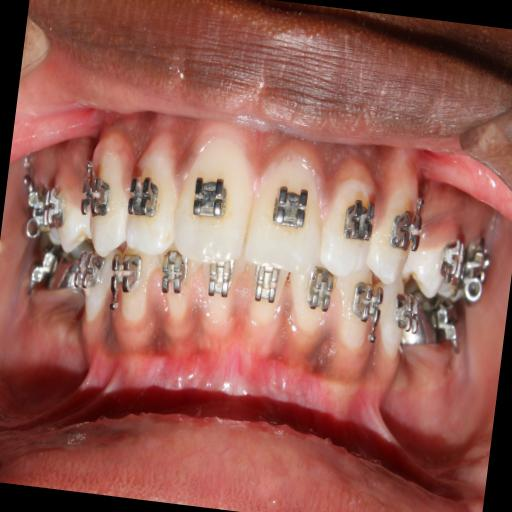correct_brace: (264, 172, 312, 250), (386, 190, 430, 272), (336, 184, 380, 260), (186, 165, 233, 228), (126, 164, 164, 228), (78, 165, 118, 219)
incorrect_brace: (120, 124, 190, 259), (319, 146, 386, 284)
